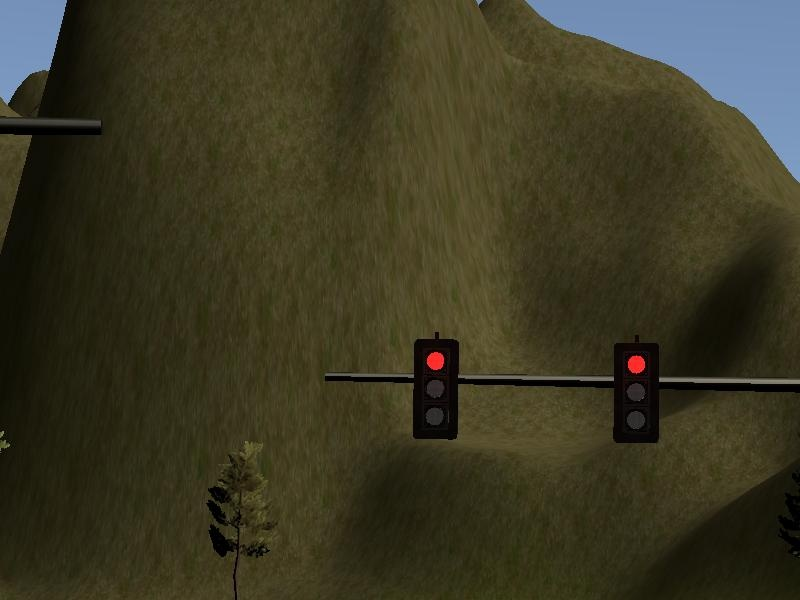RED: (613, 344, 660, 441), (411, 340, 458, 437)
